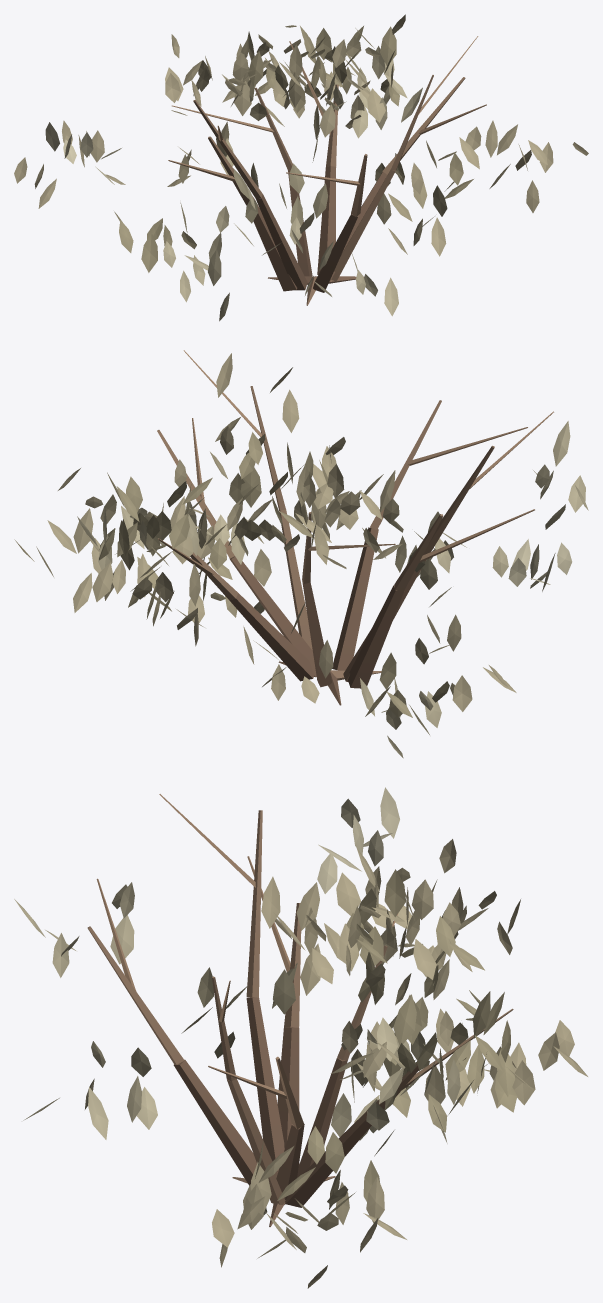
The model's file is bush_3d_06_golden_beige.glb.
The picture shows the model from 3 angles, top to bottom: view 1: azimuth 30°, elevation 25°; view 2: azimuth 150°, elevation 25°; view 3: azimuth 270°, elevation 25°; orthographic projection. The views are drawn at different scales.
Parts seen in each view (by area): view 1: bush_3d_06_golden_beige_foliage, bush_3d_06_golden_beige_wood; view 2: bush_3d_06_golden_beige_foliage, bush_3d_06_golden_beige_wood; view 3: bush_3d_06_golden_beige_foliage, bush_3d_06_golden_beige_wood.
Part boxes in pixels (x1,y1,x2,y2): bush_3d_06_golden_beige_foliage: (14,14,588,321); bush_3d_06_golden_beige_wood: (168,36,486,305); bush_3d_06_golden_beige_foliage: (14,353,588,758); bush_3d_06_golden_beige_wood: (157,350,553,705); bush_3d_06_golden_beige_foliage: (14,787,587,1288); bush_3d_06_golden_beige_wood: (87,794,513,1226).
Bounding box in the file's own units: 3.5 × 1.9 × 2.7.
